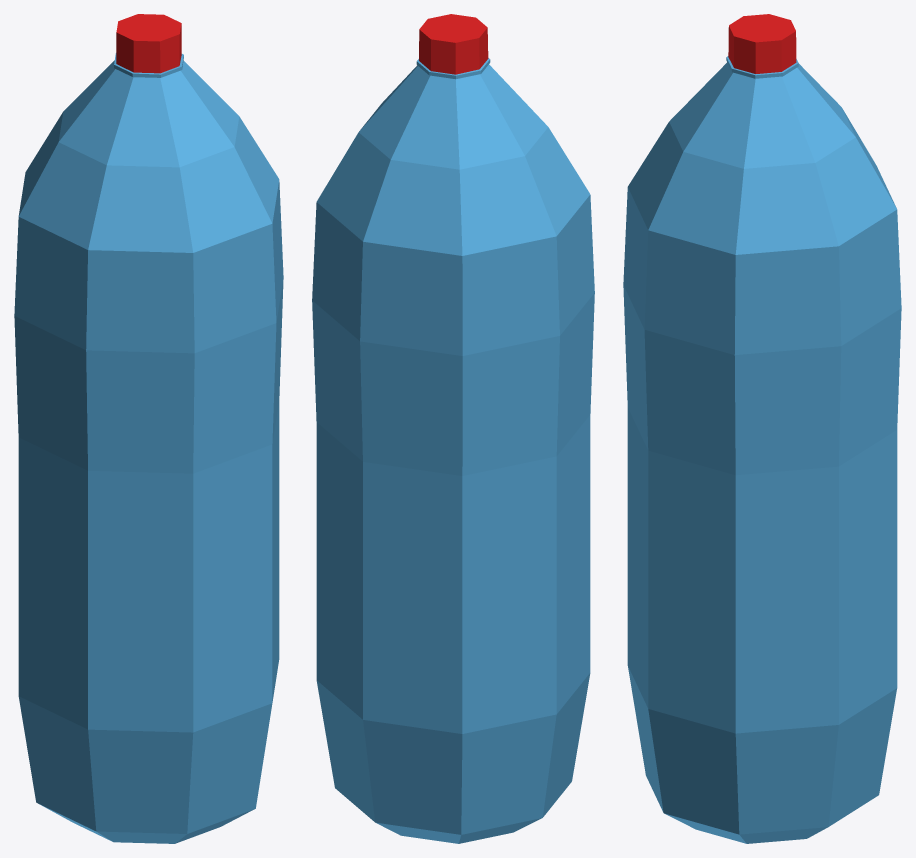
The model's file is plastic_bottle.fbx.
3 renders of one model, left to right at view 1: azimuth 30°, elevation 25°; view 2: azimuth 150°, elevation 25°; view 3: azimuth 270°, elevation 25°, orthographic.
Parts seen in each view (by area): view 1: Cylinder.003; view 2: Cylinder.003; view 3: Cylinder.003.
Part boxes in pixels (x1,y1,x2,y2): Cylinder.003: [14, 14, 283, 843]; Cylinder.003: [312, 14, 594, 843]; Cylinder.003: [623, 14, 901, 843].
Size of the model in its own units: 39.39 by 122 by 39.39.
